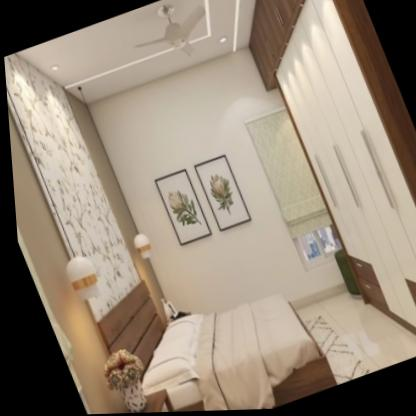Bed: (117, 257, 332, 414)
Ceramic floor: (291, 297, 416, 387)
Closet: (275, 14, 416, 351), (287, 0, 416, 356), (260, 43, 390, 333)
Frame: (186, 146, 253, 239), (147, 163, 212, 252)
Gypsum Board: (14, 0, 257, 110)
Lamp: (3, 53, 103, 312), (65, 77, 155, 268)
